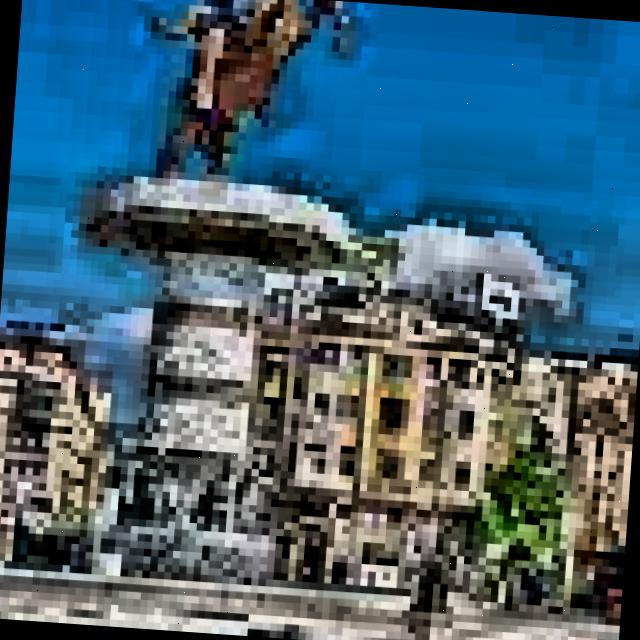alexander the great monument: (38, 0, 400, 614)
